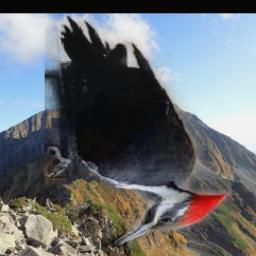Woodpecker: (45, 17, 232, 248)
